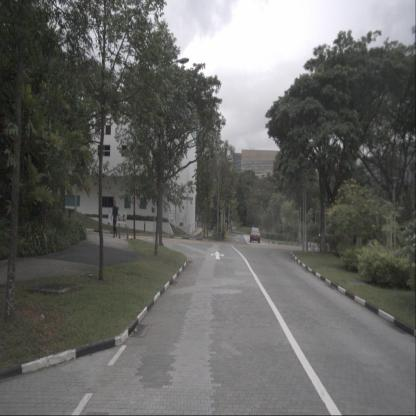human-pedestrian-adult: (110, 200, 119, 238)
vehicle-car: (250, 227, 260, 243)
